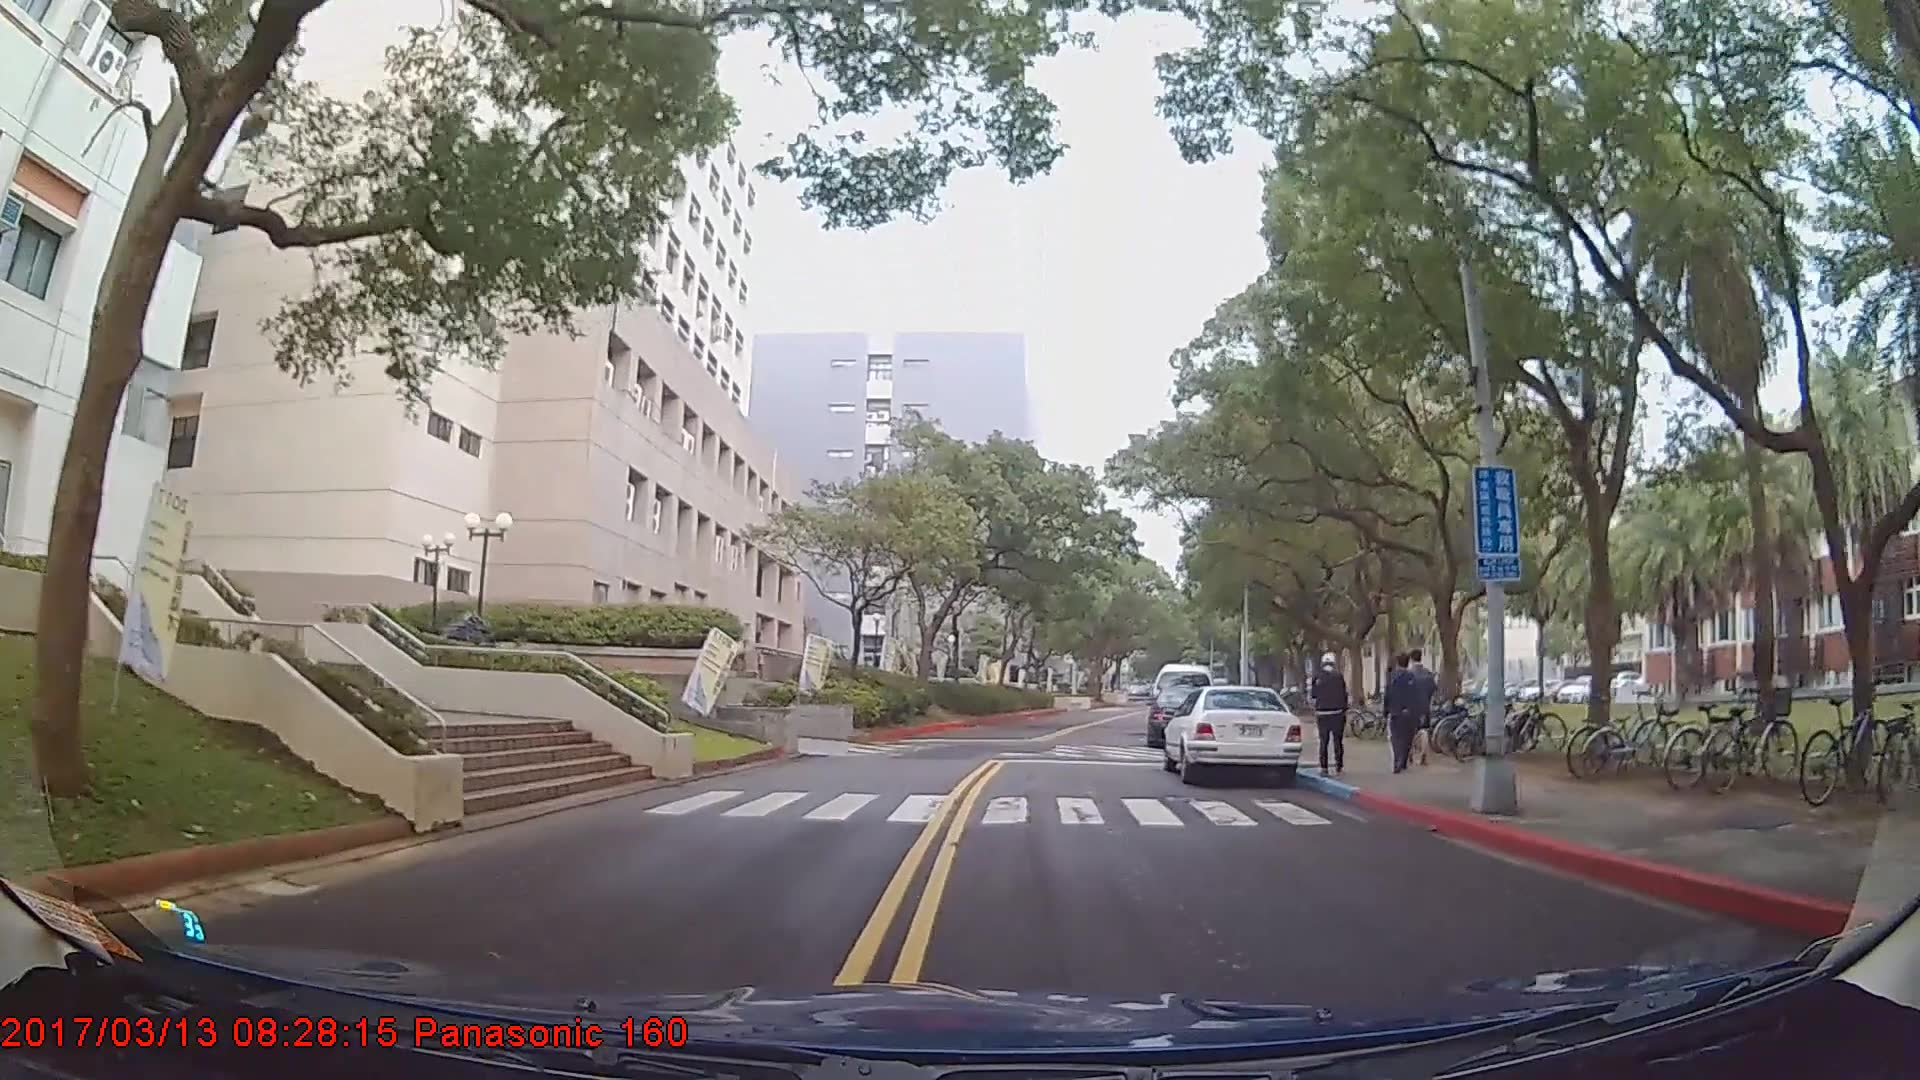pedestrian: (1383, 644, 1430, 776), (1315, 652, 1351, 777)
vehicle: (1159, 685, 1302, 786)
